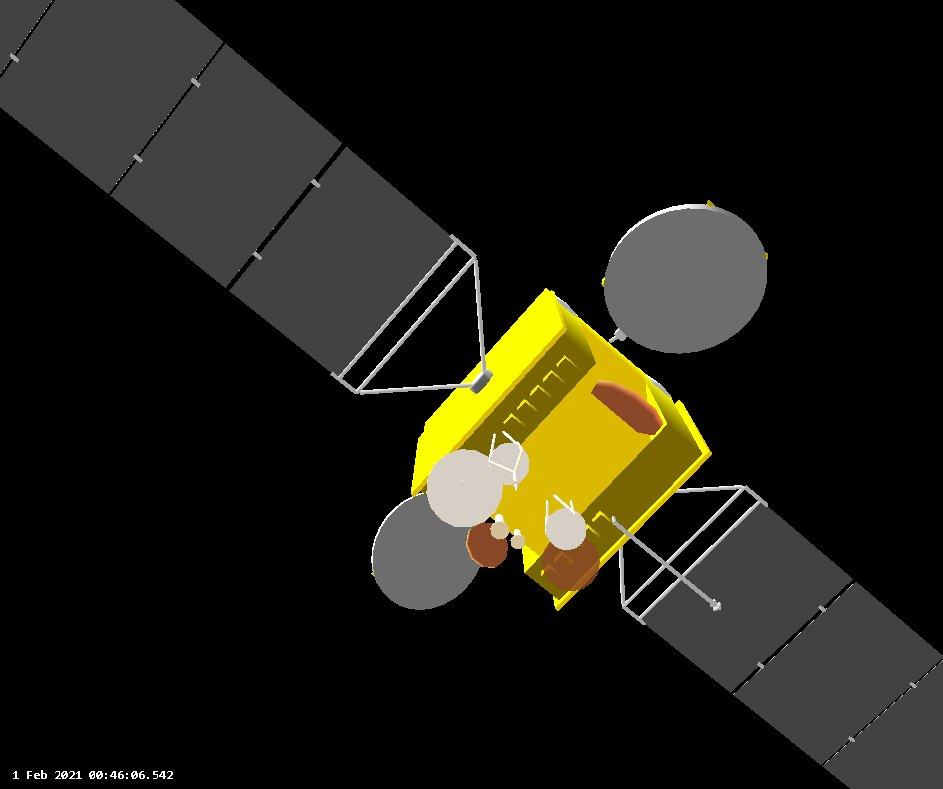antenna: (597, 194, 774, 357), (369, 485, 486, 613), (427, 445, 503, 525), (487, 439, 534, 489), (464, 521, 512, 569), (542, 505, 589, 552), (489, 519, 512, 545), (507, 530, 529, 550)
body: (409, 282, 718, 616)
solar: (0, 0, 495, 399), (614, 483, 943, 789)
